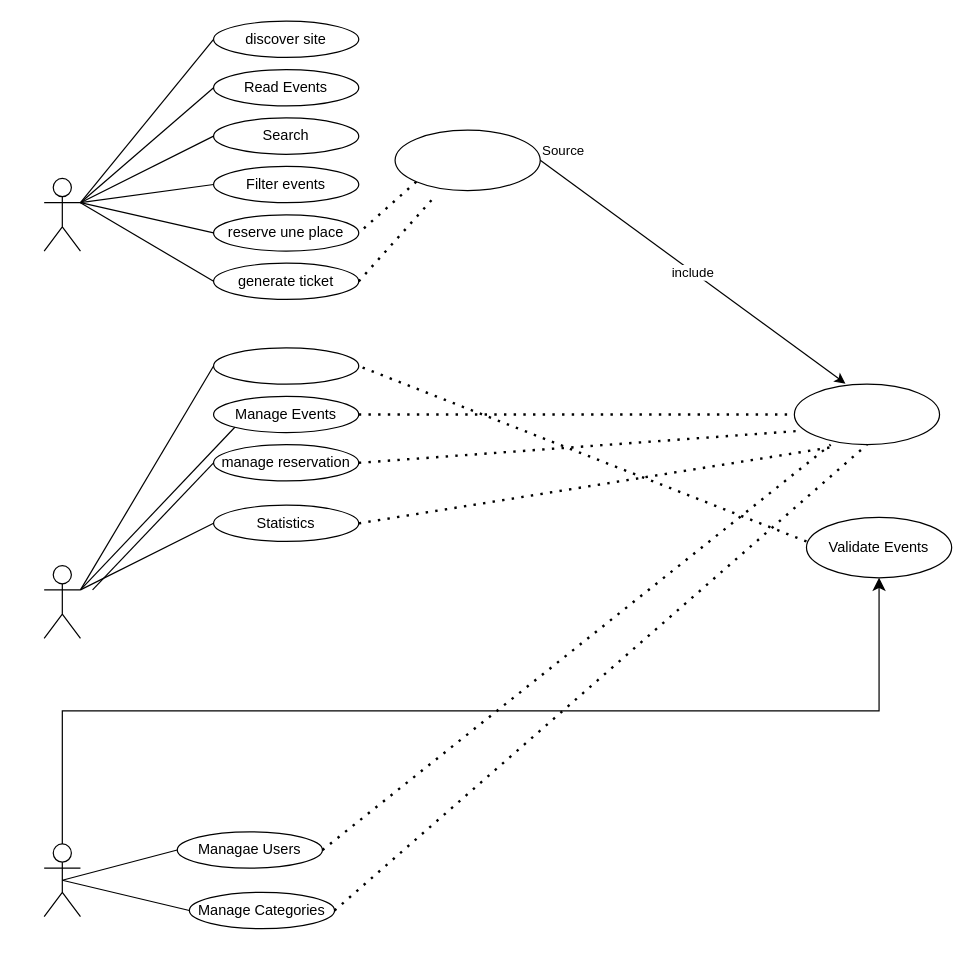
This 973x963 diagram has some shape labels left out. Each missing label, with the centre of its shape:
Admin: (61,880)
Authentification: (866,414)
Create event: (285,365)
Organisateur: (61,601)
Payment: (467,160)
User: (61,214)
